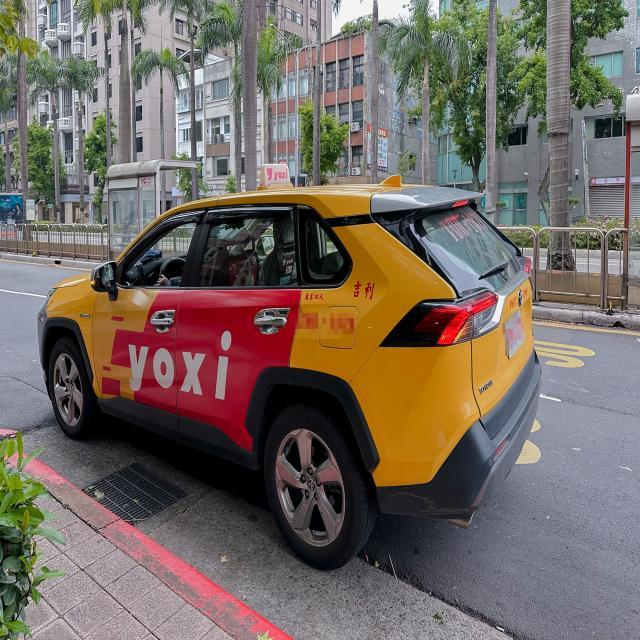taxi: (41, 145, 568, 607)
